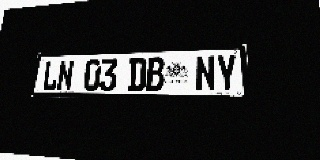0: (83, 59, 101, 91)
3: (99, 58, 118, 91)
B: (146, 57, 165, 91)
D: (128, 58, 147, 91)
L: (42, 60, 60, 91)
N: (195, 55, 216, 92), (56, 60, 74, 91)
Y: (216, 55, 238, 92)
